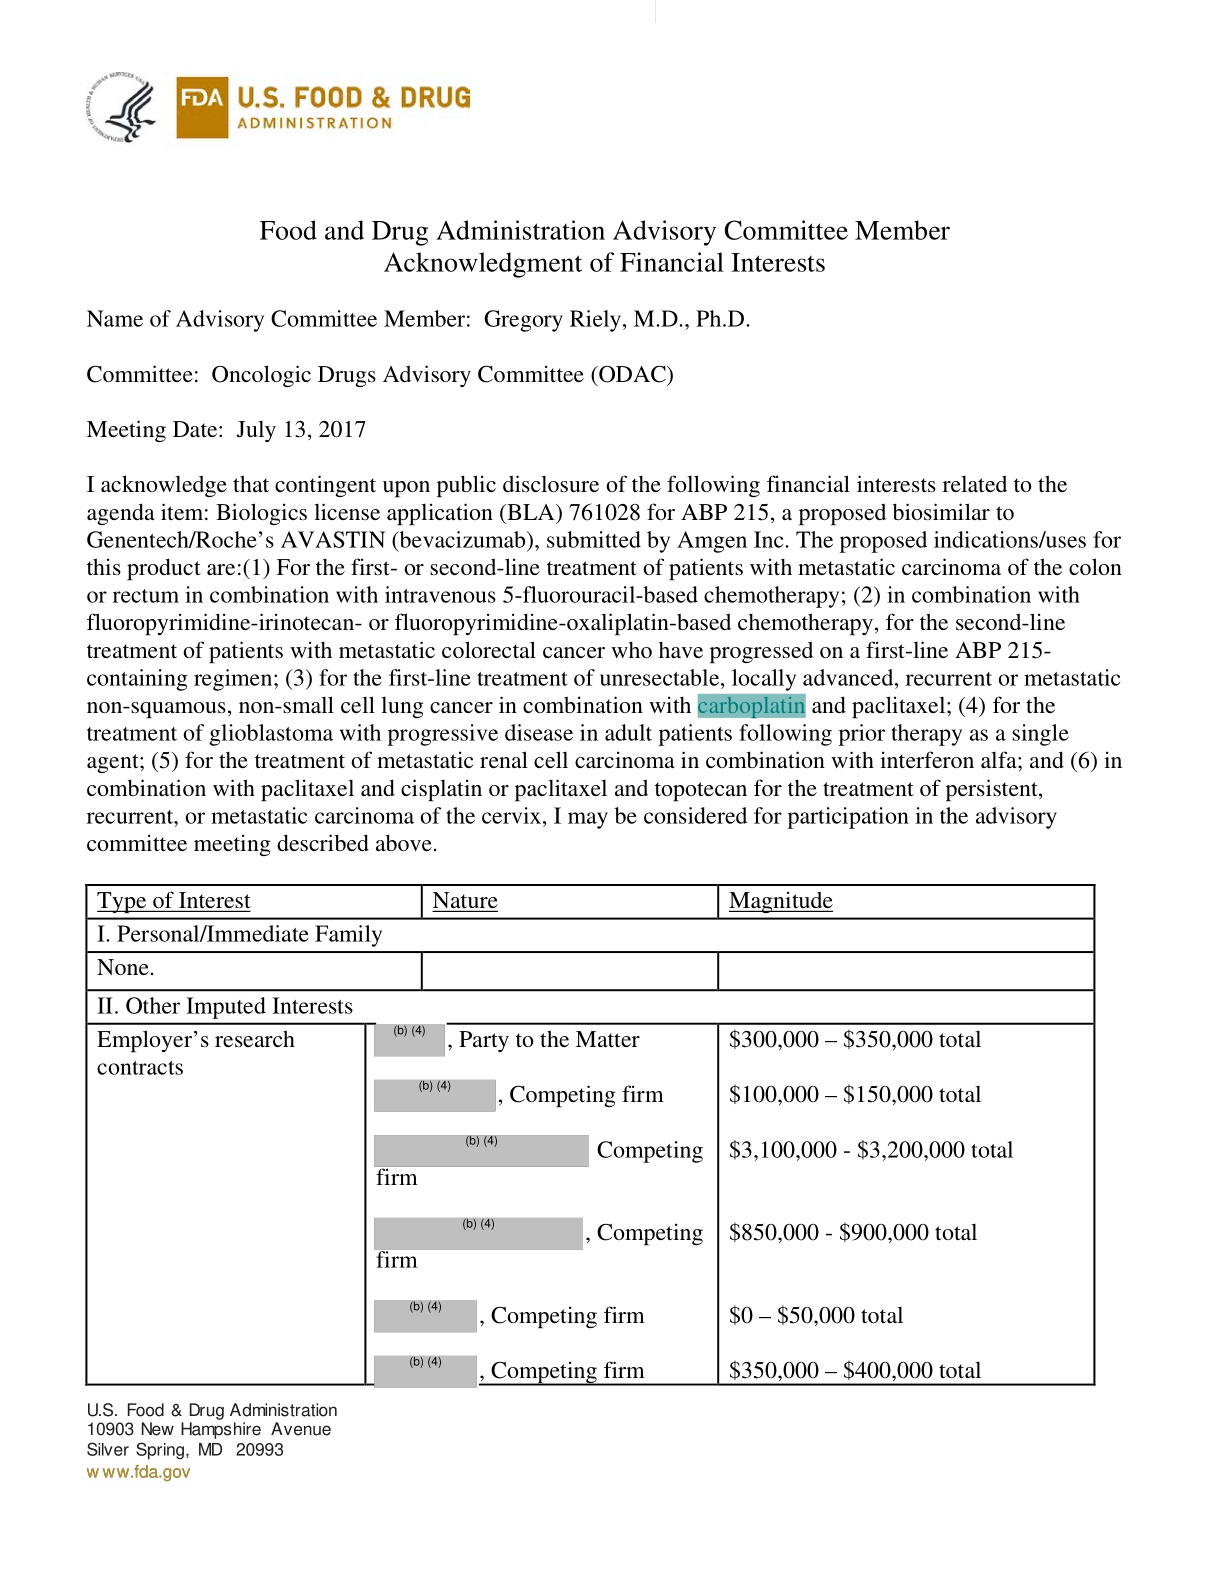merged_cells: (84, 885, 1095, 1387)
